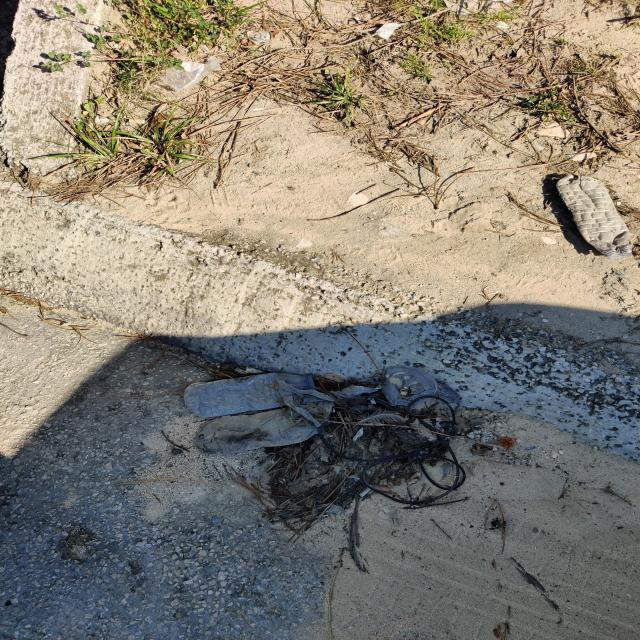litter: (553, 173, 635, 259), (180, 369, 319, 416)
